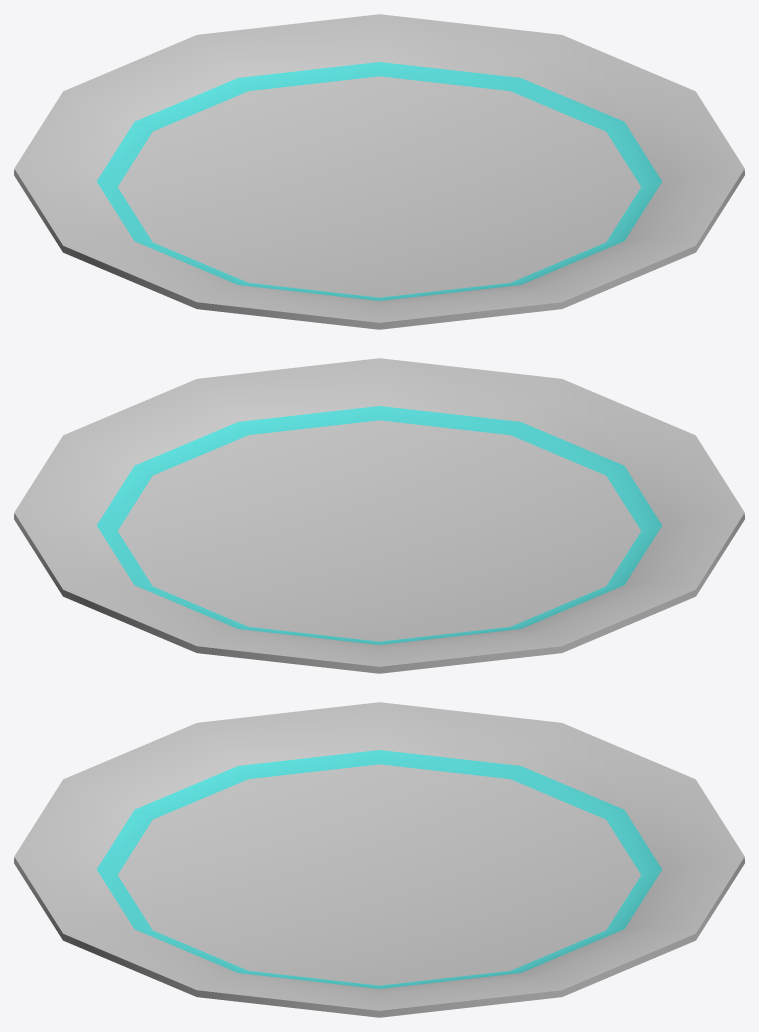
Rendered from Asset014_Packdeitens01_Prato02.fbx.
3 views of the same model, one above another, from view 1: azimuth 30°, elevation 25°; view 2: azimuth 150°, elevation 25°; view 3: azimuth 270°, elevation 25° (orthographic).
Visible parts, largest first — view 1: Prato_02; view 2: Prato_02; view 3: Prato_02.
Part boxes in pixels (x1=…): Prato_02: x1=14, y1=14, x2=744, y2=329; Prato_02: x1=14, y1=358, x2=744, y2=673; Prato_02: x1=14, y1=702, x2=744, y2=1017.
Size of the model in its own units: 77.74 by 2.96 by 77.74.
